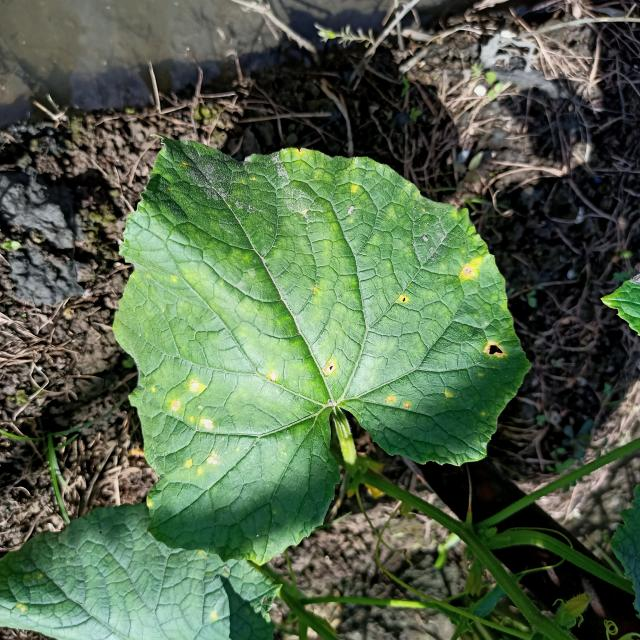disease_cucumber: (167, 374, 219, 478), (457, 254, 487, 281), (380, 391, 413, 410), (481, 339, 505, 359), (322, 360, 338, 376), (268, 370, 278, 383), (399, 294, 408, 304)
